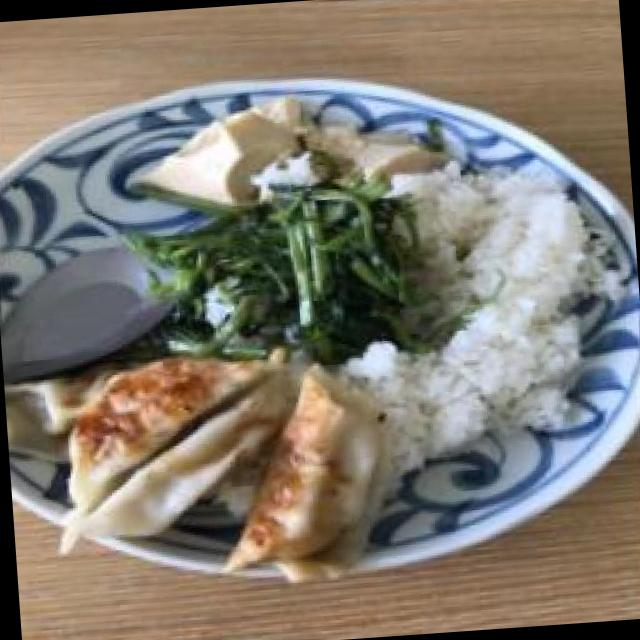fried_dumplings: (2, 340, 400, 592)
rice: (407, 152, 598, 430)
water_spinach: (198, 185, 397, 358)
